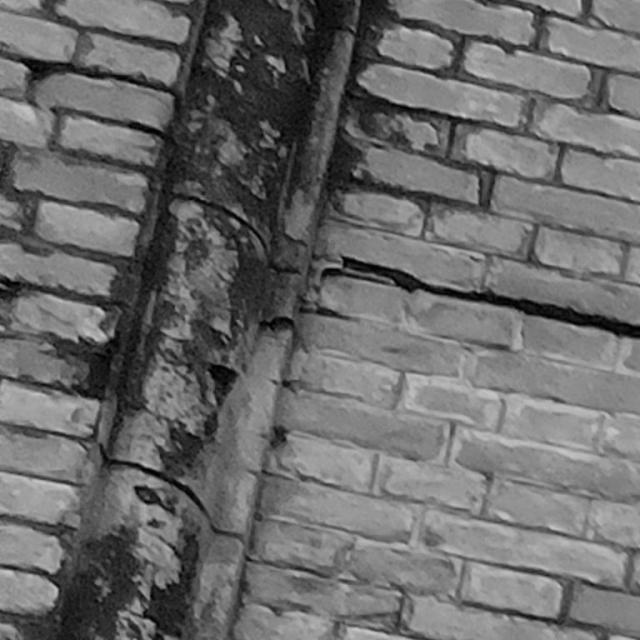crack: (339, 253, 640, 339)
